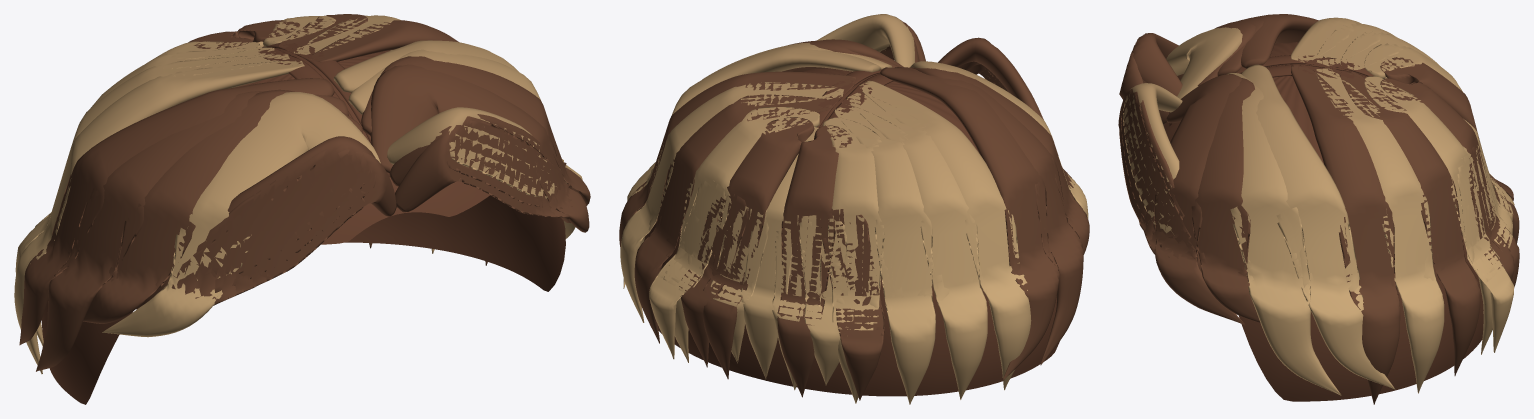
The model's file is Highlights-25cc3d07d2d7251-hair.glb.
The picture shows the model from 3 angles, left to right: view 1: azimuth 30°, elevation 25°; view 2: azimuth 150°, elevation 25°; view 3: azimuth 270°, elevation 25°; orthographic projection. The views are drawn at different scales.
Parts seen in each view (by area): view 1: 226 hair / Hair / chestnut226.002, 226 hair / Hair / recessed roots251.002, 226 hair / Hair / main251.001, 226 hair / Hair / accent251.001, 226 hair / Hair / recessed roots251.003; view 2: 226 hair / Hair / main251.001, 226 hair / Hair / accent251.001, 226 hair / Hair / chestnut226.002, 226 hair / Hair / recessed roots251.002, 226 hair / Hair / recessed roots251.003; view 3: 226 hair / Hair / chestnut226.002, 226 hair / Hair / main251.001, 226 hair / Hair / accent251.001, 226 hair / Hair / recessed roots251.002, 226 hair / Hair / recessed roots251.003.
Boxes of the visible parts, left/top/right/bottom form: 226 hair / Hair / chestnut226.002: left=19, top=40, right=590, bottom=371; 226 hair / Hair / recessed roots251.002: left=41, top=48, right=565, bottom=404; 226 hair / Hair / main251.001: left=14, top=14, right=487, bottom=374; 226 hair / Hair / accent251.001: left=15, top=15, right=434, bottom=346; 226 hair / Hair / recessed roots251.003: left=258, top=42, right=390, bottom=176; 226 hair / Hair / main251.001: left=619, top=71, right=1031, bottom=404; 226 hair / Hair / accent251.001: left=620, top=82, right=987, bottom=403; 226 hair / Hair / chestnut226.002: left=623, top=14, right=1089, bottom=380; 226 hair / Hair / recessed roots251.002: left=644, top=68, right=1059, bottom=396; 226 hair / Hair / recessed roots251.003: left=817, top=69, right=893, bottom=127; 226 hair / Hair / chestnut226.002: left=1118, top=14, right=1395, bottom=395; 226 hair / Hair / main251.001: left=1291, top=17, right=1519, bottom=404; 226 hair / Hair / accent251.001: left=1316, top=23, right=1514, bottom=393; 226 hair / Hair / recessed roots251.002: left=1163, top=42, right=1483, bottom=401; 226 hair / Hair / recessed roots251.003: left=1169, top=55, right=1373, bottom=126.
Size of the model in its own units: 1.07 by 0.5895 by 0.8384.
